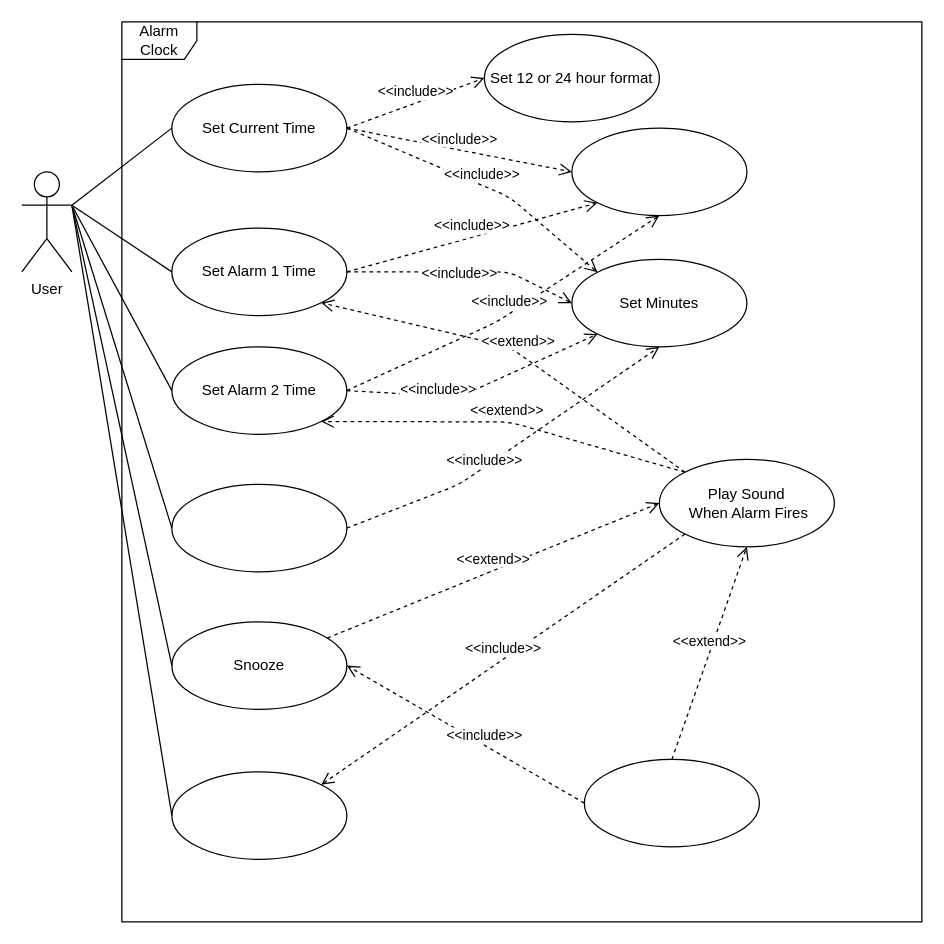
The diagram is 944 pixels wide and 944 high, and some of its shapes have lost their labels. Each missing label, with the centre of its shape:
"No Response for 2 min" belongs at point (671, 802).
"Set Hours" belongs at point (659, 171).
"Set Snooze Time" belongs at point (259, 527).
"Turn Off Alarm" belongs at point (259, 815).
